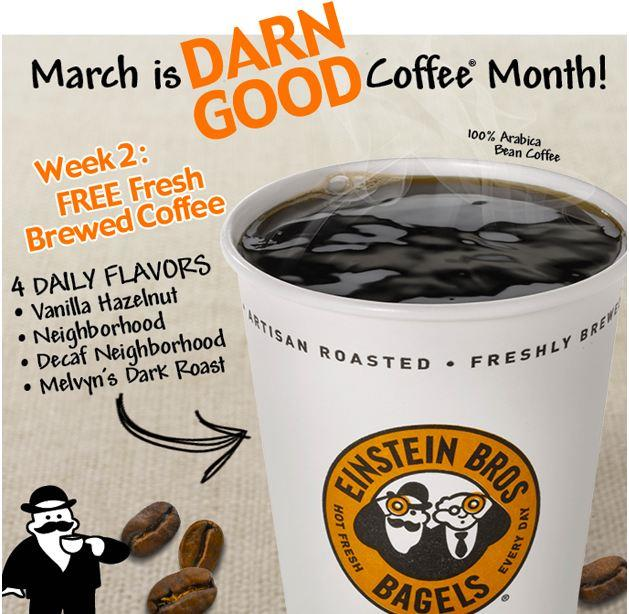einstein_bros: (322, 425, 540, 604)
